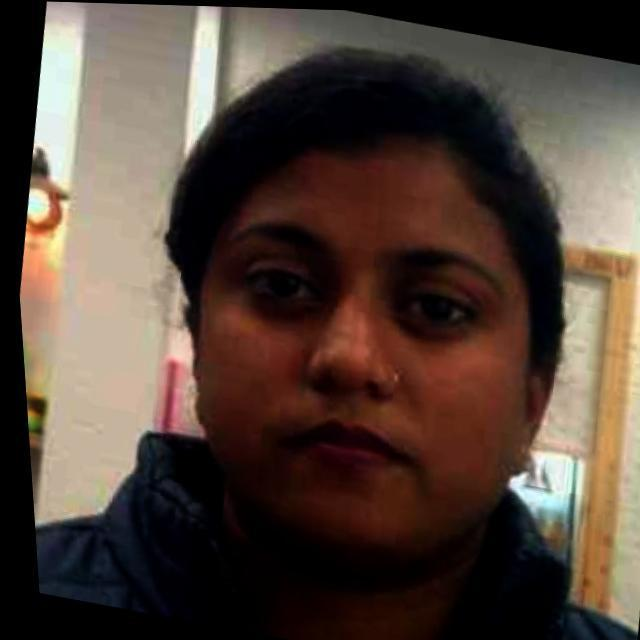puffy_eyes: (388, 308, 469, 342), (242, 293, 321, 321)
